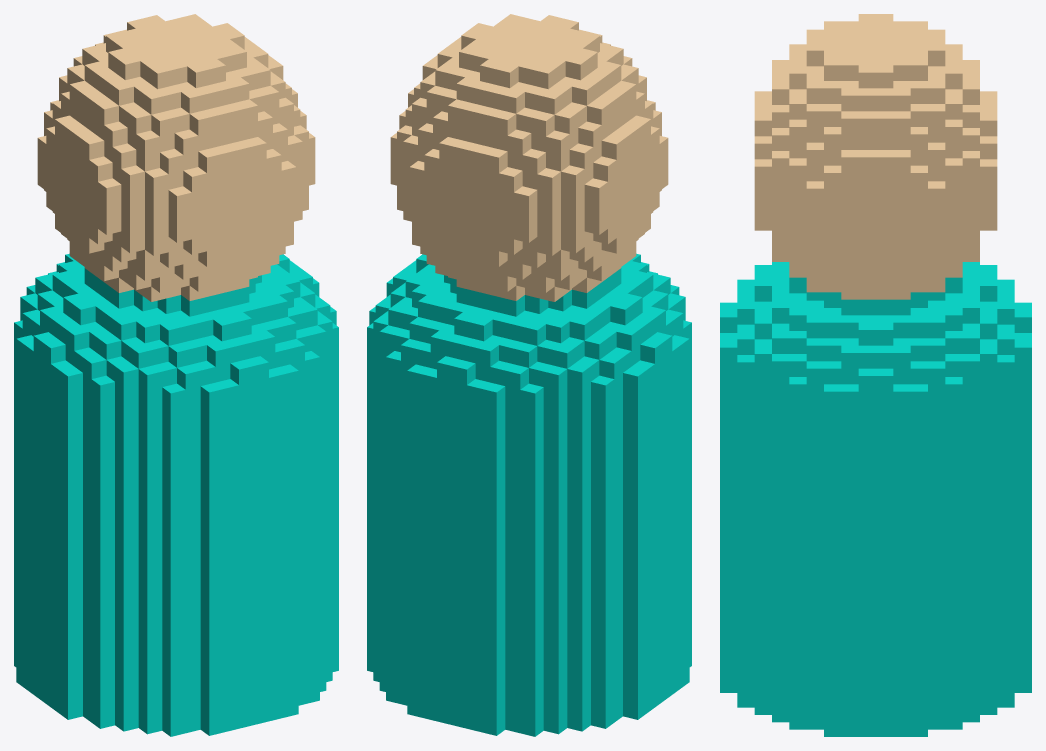
File: Person_5.fbx
3 views of the same model, side by side, from view 1: azimuth 30°, elevation 25°; view 2: azimuth 150°, elevation 25°; view 3: azimuth 270°, elevation 25° (orthographic).
Parts seen in each view (by area): view 1: Person_5; view 2: Person_5; view 3: Person_5.
Part boxes in pixels (<box>): Person_5: <box>14,14,338,736</box>; Person_5: <box>367,14,691,736</box>; Person_5: <box>720,14,1031,736</box>.
Bounding box in the file's own units: 18 × 40 × 18.
1 material, 1 textured.
